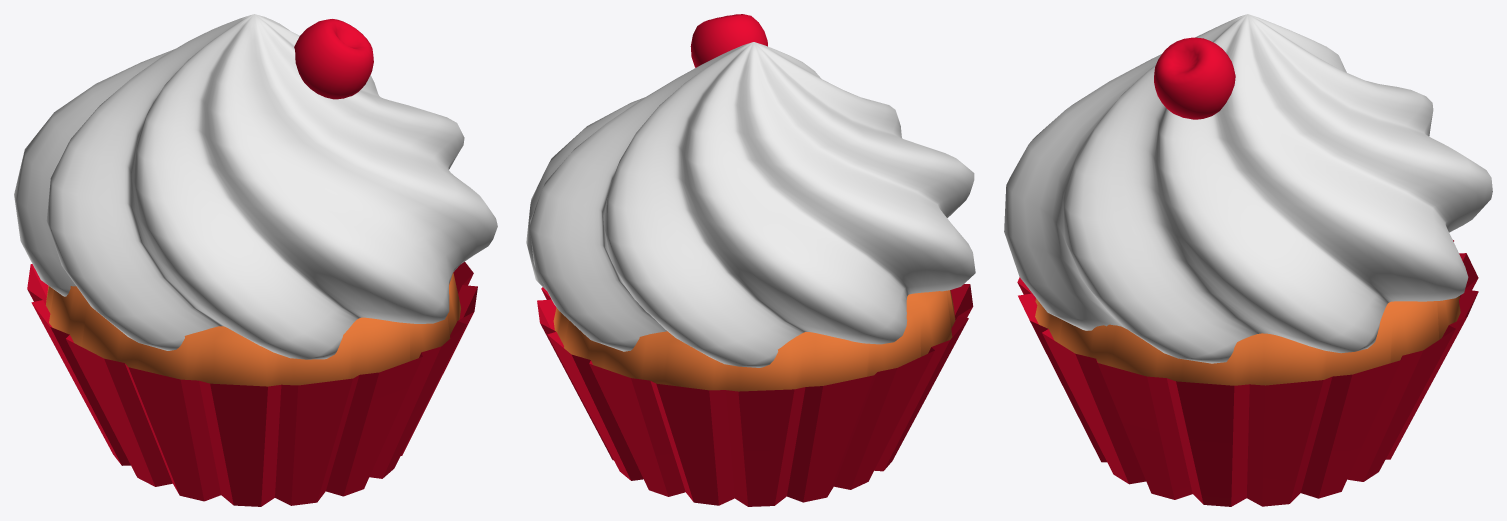
Rendered from cake_lowpoly_01.fbx.
The picture shows the model from 3 angles, left to right: view 1: azimuth 30°, elevation 25°; view 2: azimuth 150°, elevation 25°; view 3: azimuth 270°, elevation 25°; orthographic projection. The views are drawn at different scales.
Visible parts, largest first — view 1: Cube.001, Cube.010, Cube.002, Sphere; view 2: Cube.001, Cube.010, Cube.002, Sphere; view 3: Cube.001, Cube.010, Cube.002, Sphere.
Boxes of the visible parts, x1=… form: Cube.001: x1=14, y1=14, x2=497, y2=359; Cube.010: x1=27, y1=262, x2=477, y2=506; Cube.002: x1=46, y1=272, x2=460, y2=386; Sphere: x1=294, y1=19, x2=373, y2=99; Cube.001: x1=526, y1=42, x2=975, y2=367; Cube.010: x1=537, y1=284, x2=973, y2=506; Cube.002: x1=553, y1=290, x2=955, y2=391; Sphere: x1=690, y1=14, x2=767, y2=67; Cube.001: x1=1004, y1=14, x2=1492, y2=363; Cube.010: x1=1017, y1=240, x2=1478, y2=506; Cube.002: x1=1035, y1=296, x2=1460, y2=385; Sphere: x1=1154, y1=37, x2=1235, y2=119.
Size of the model in its own units: 71.3 by 70.38 by 72.33.
